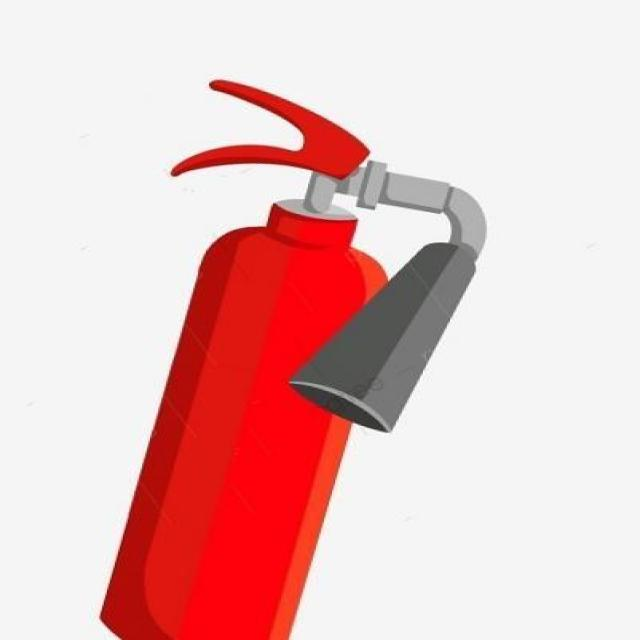fire_extinguisher: (87, 73, 494, 639)
